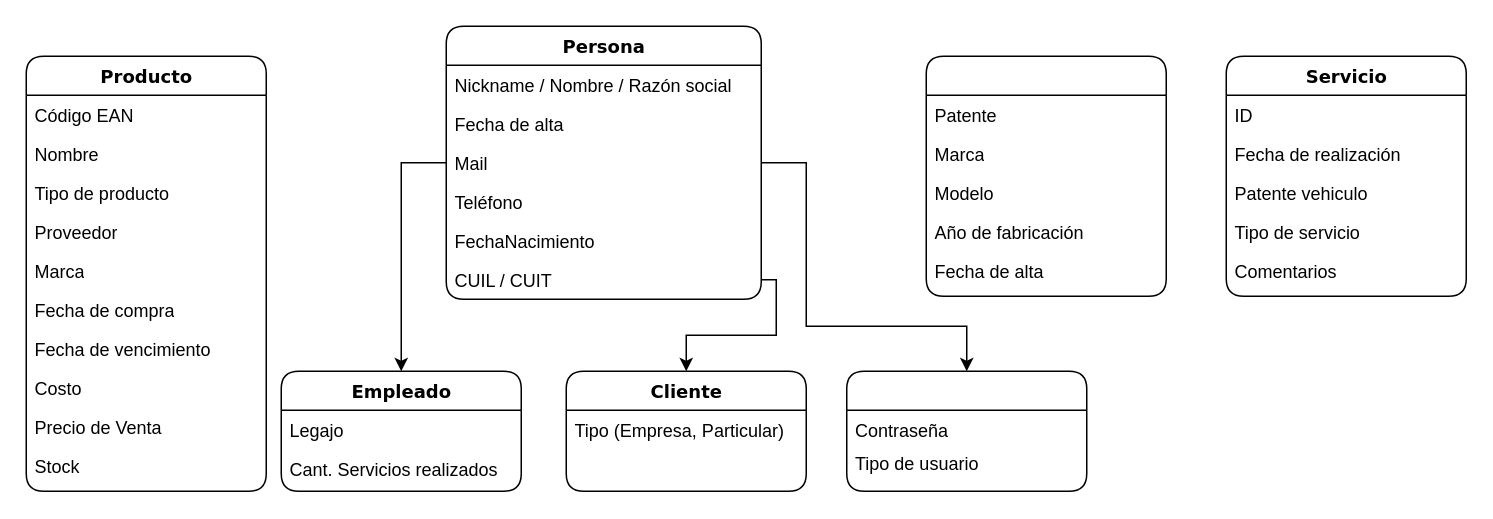
Some shapes in this 1493 by 519 pixel diagram are drawn without their labels. Each missing label, with the box of its shape:
Usuario interno: (845, 370, 1087, 491)
Vehículo: (925, 55, 1166, 296)
